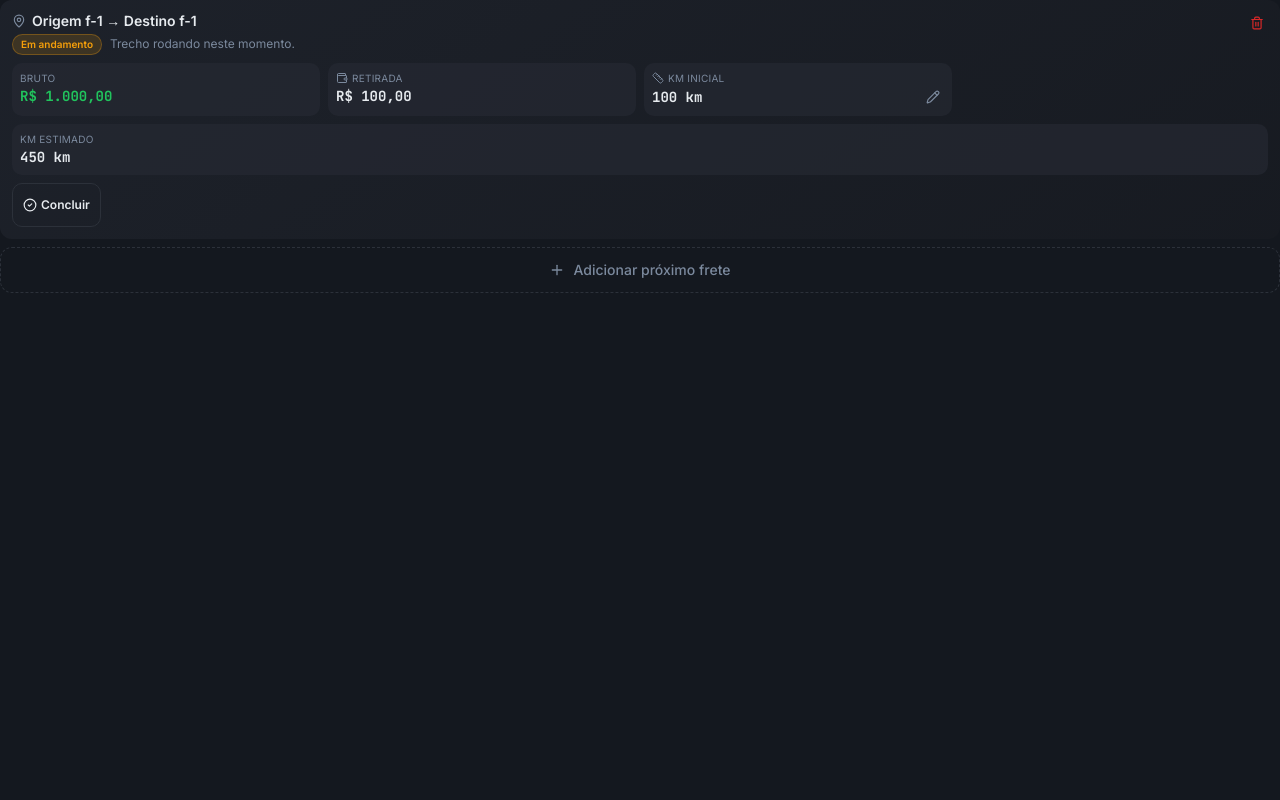
Test: FreightTab › abre modal ao tocar em Concluir e permite só concluir
Later steps or results of the test are not shown.
Click the button "Concluir": [56, 204] box [12, 182, 101, 226]
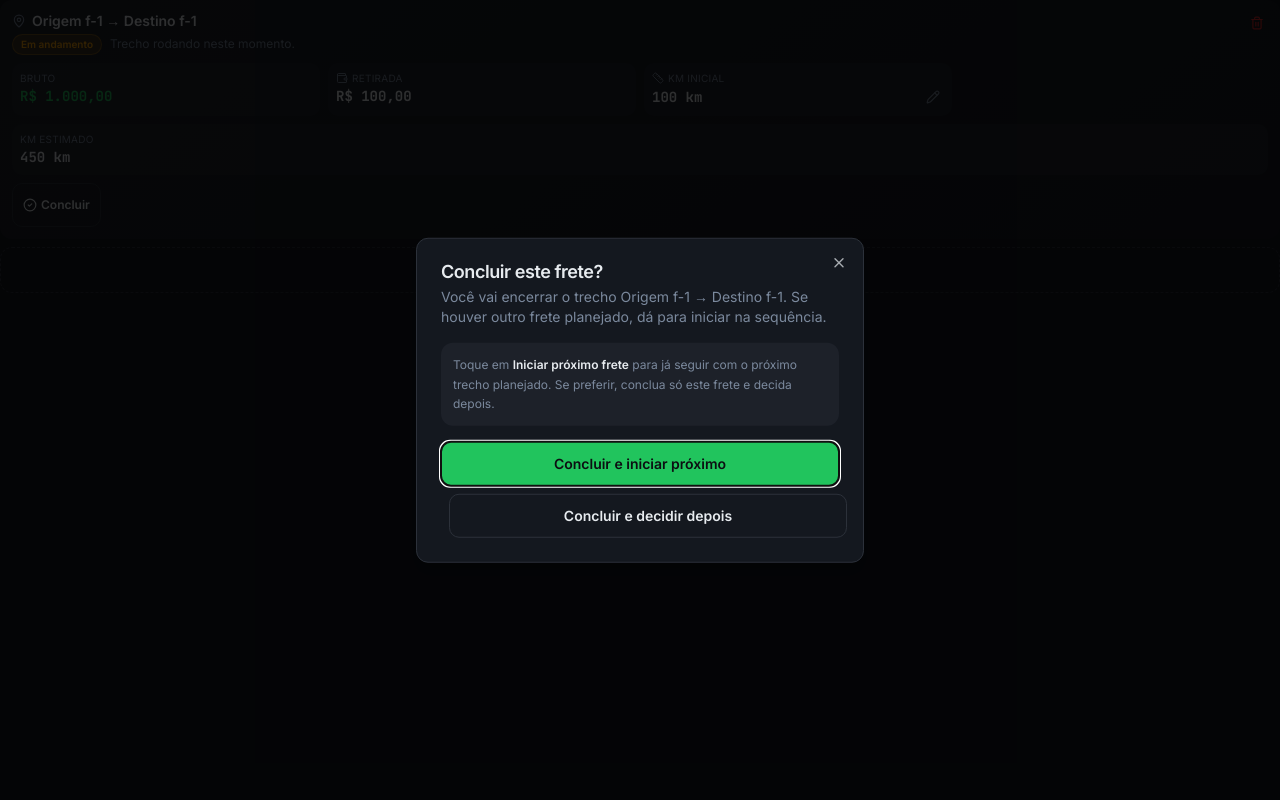
expect the heading "Concluir este frete?" is shown: met, box [441, 261, 603, 282]
